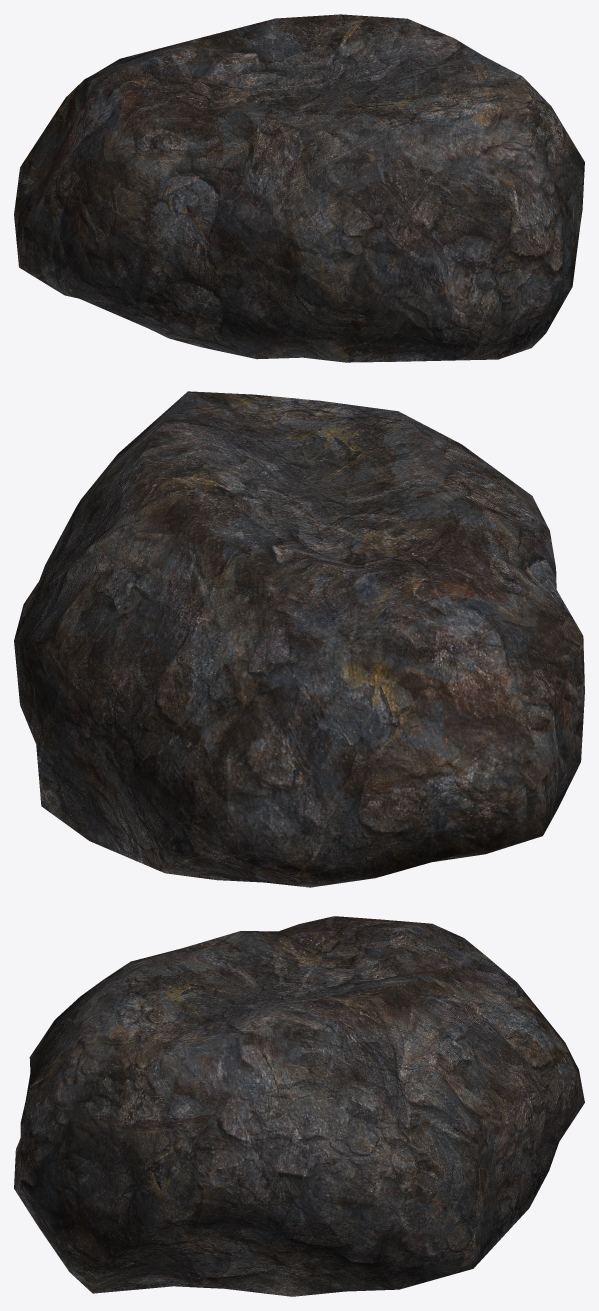
The model's file is rock_02.fbx.
3 views of the same model, one above another, from view 1: azimuth 30°, elevation 25°; view 2: azimuth 150°, elevation 25°; view 3: azimuth 270°, elevation 25° (orthographic). The views are drawn at different scales.
Parts seen in each view (by area): view 1: rock_02; view 2: rock_02; view 3: rock_02.
Part boxes in pixels (box(x1,y1,x2,y2)): rock_02: box(14, 14, 584, 362); rock_02: box(14, 391, 584, 887); rock_02: box(14, 916, 584, 1296).
Bounding box in the file's own units: 2.71 × 1.53 × 2.81.
1 material, 1 textured.
